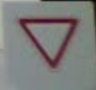giveway: (18, 17, 80, 69)
